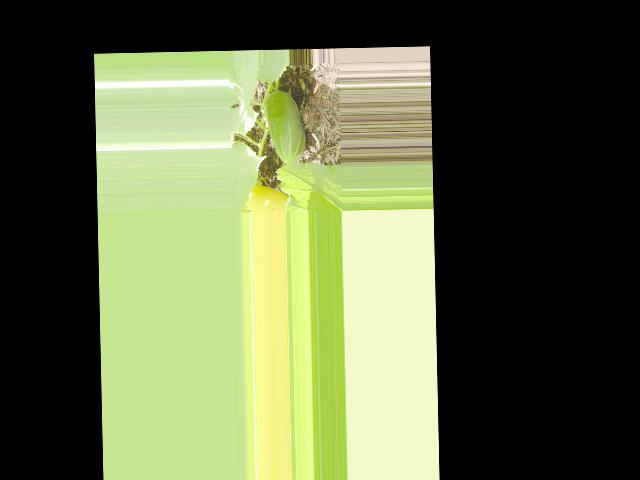cucumber: (264, 89, 307, 164)
